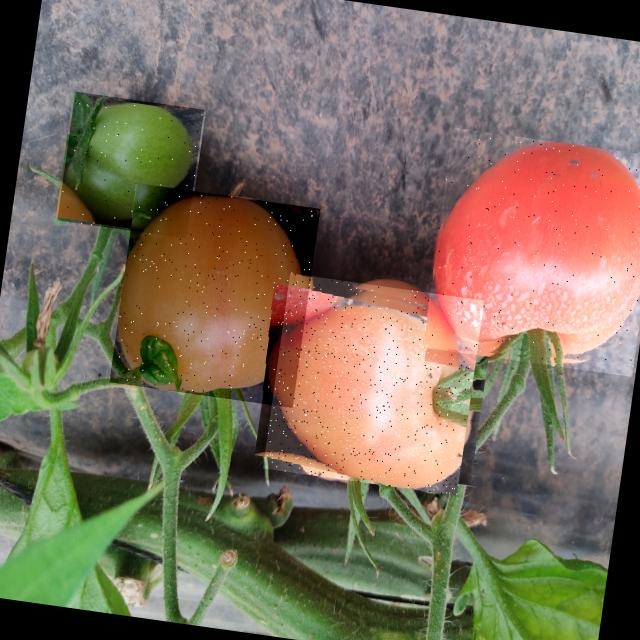Ripe Tomato: (422, 128, 640, 377), (263, 274, 485, 496)
Unripe Tomato: (110, 183, 320, 408), (57, 92, 204, 238)
